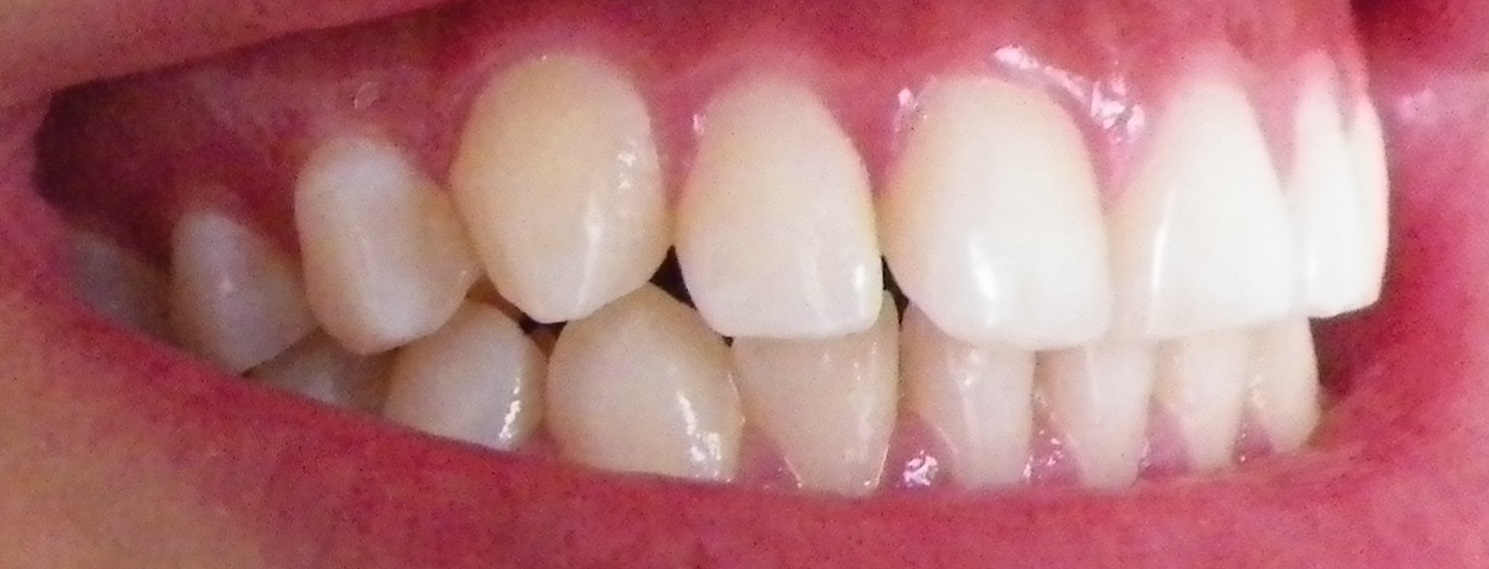boca: (121, 76, 1394, 485)
